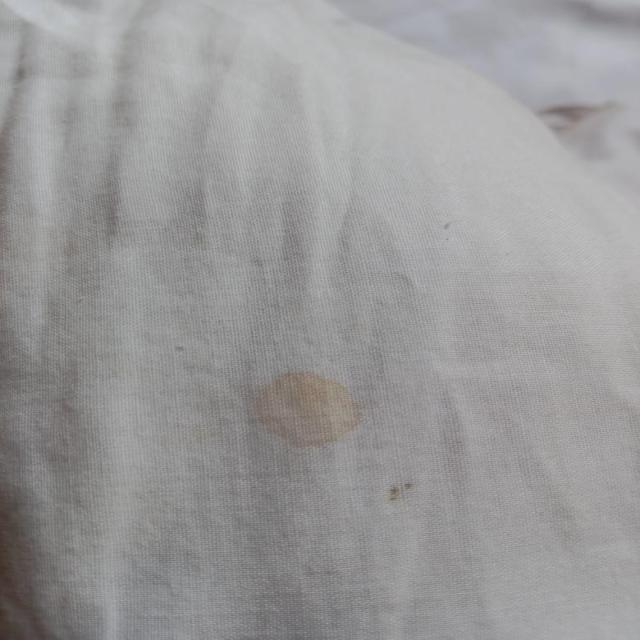stain: (249, 362, 370, 457), (537, 91, 630, 141), (379, 476, 425, 507)
